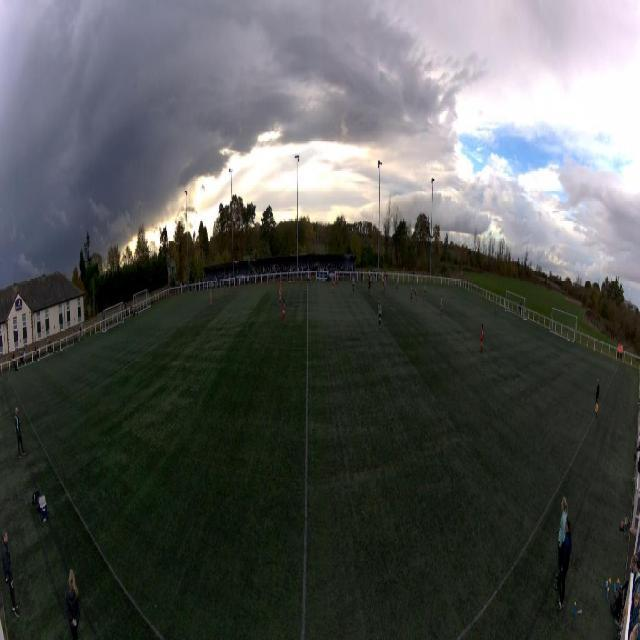ball: (362, 283, 363, 287)
player: (281, 300, 287, 327), (378, 300, 382, 329), (480, 325, 483, 353), (279, 280, 282, 307), (414, 286, 417, 303), (352, 276, 355, 293), (331, 276, 334, 292), (368, 280, 371, 295), (440, 295, 442, 316), (391, 272, 394, 286), (308, 272, 311, 286), (336, 272, 339, 284), (495, 296, 497, 313), (396, 275, 398, 291), (424, 284, 426, 300), (210, 291, 212, 307), (410, 285, 412, 301), (382, 278, 384, 293), (384, 277, 386, 292), (371, 276, 373, 287), (385, 273, 386, 283)
